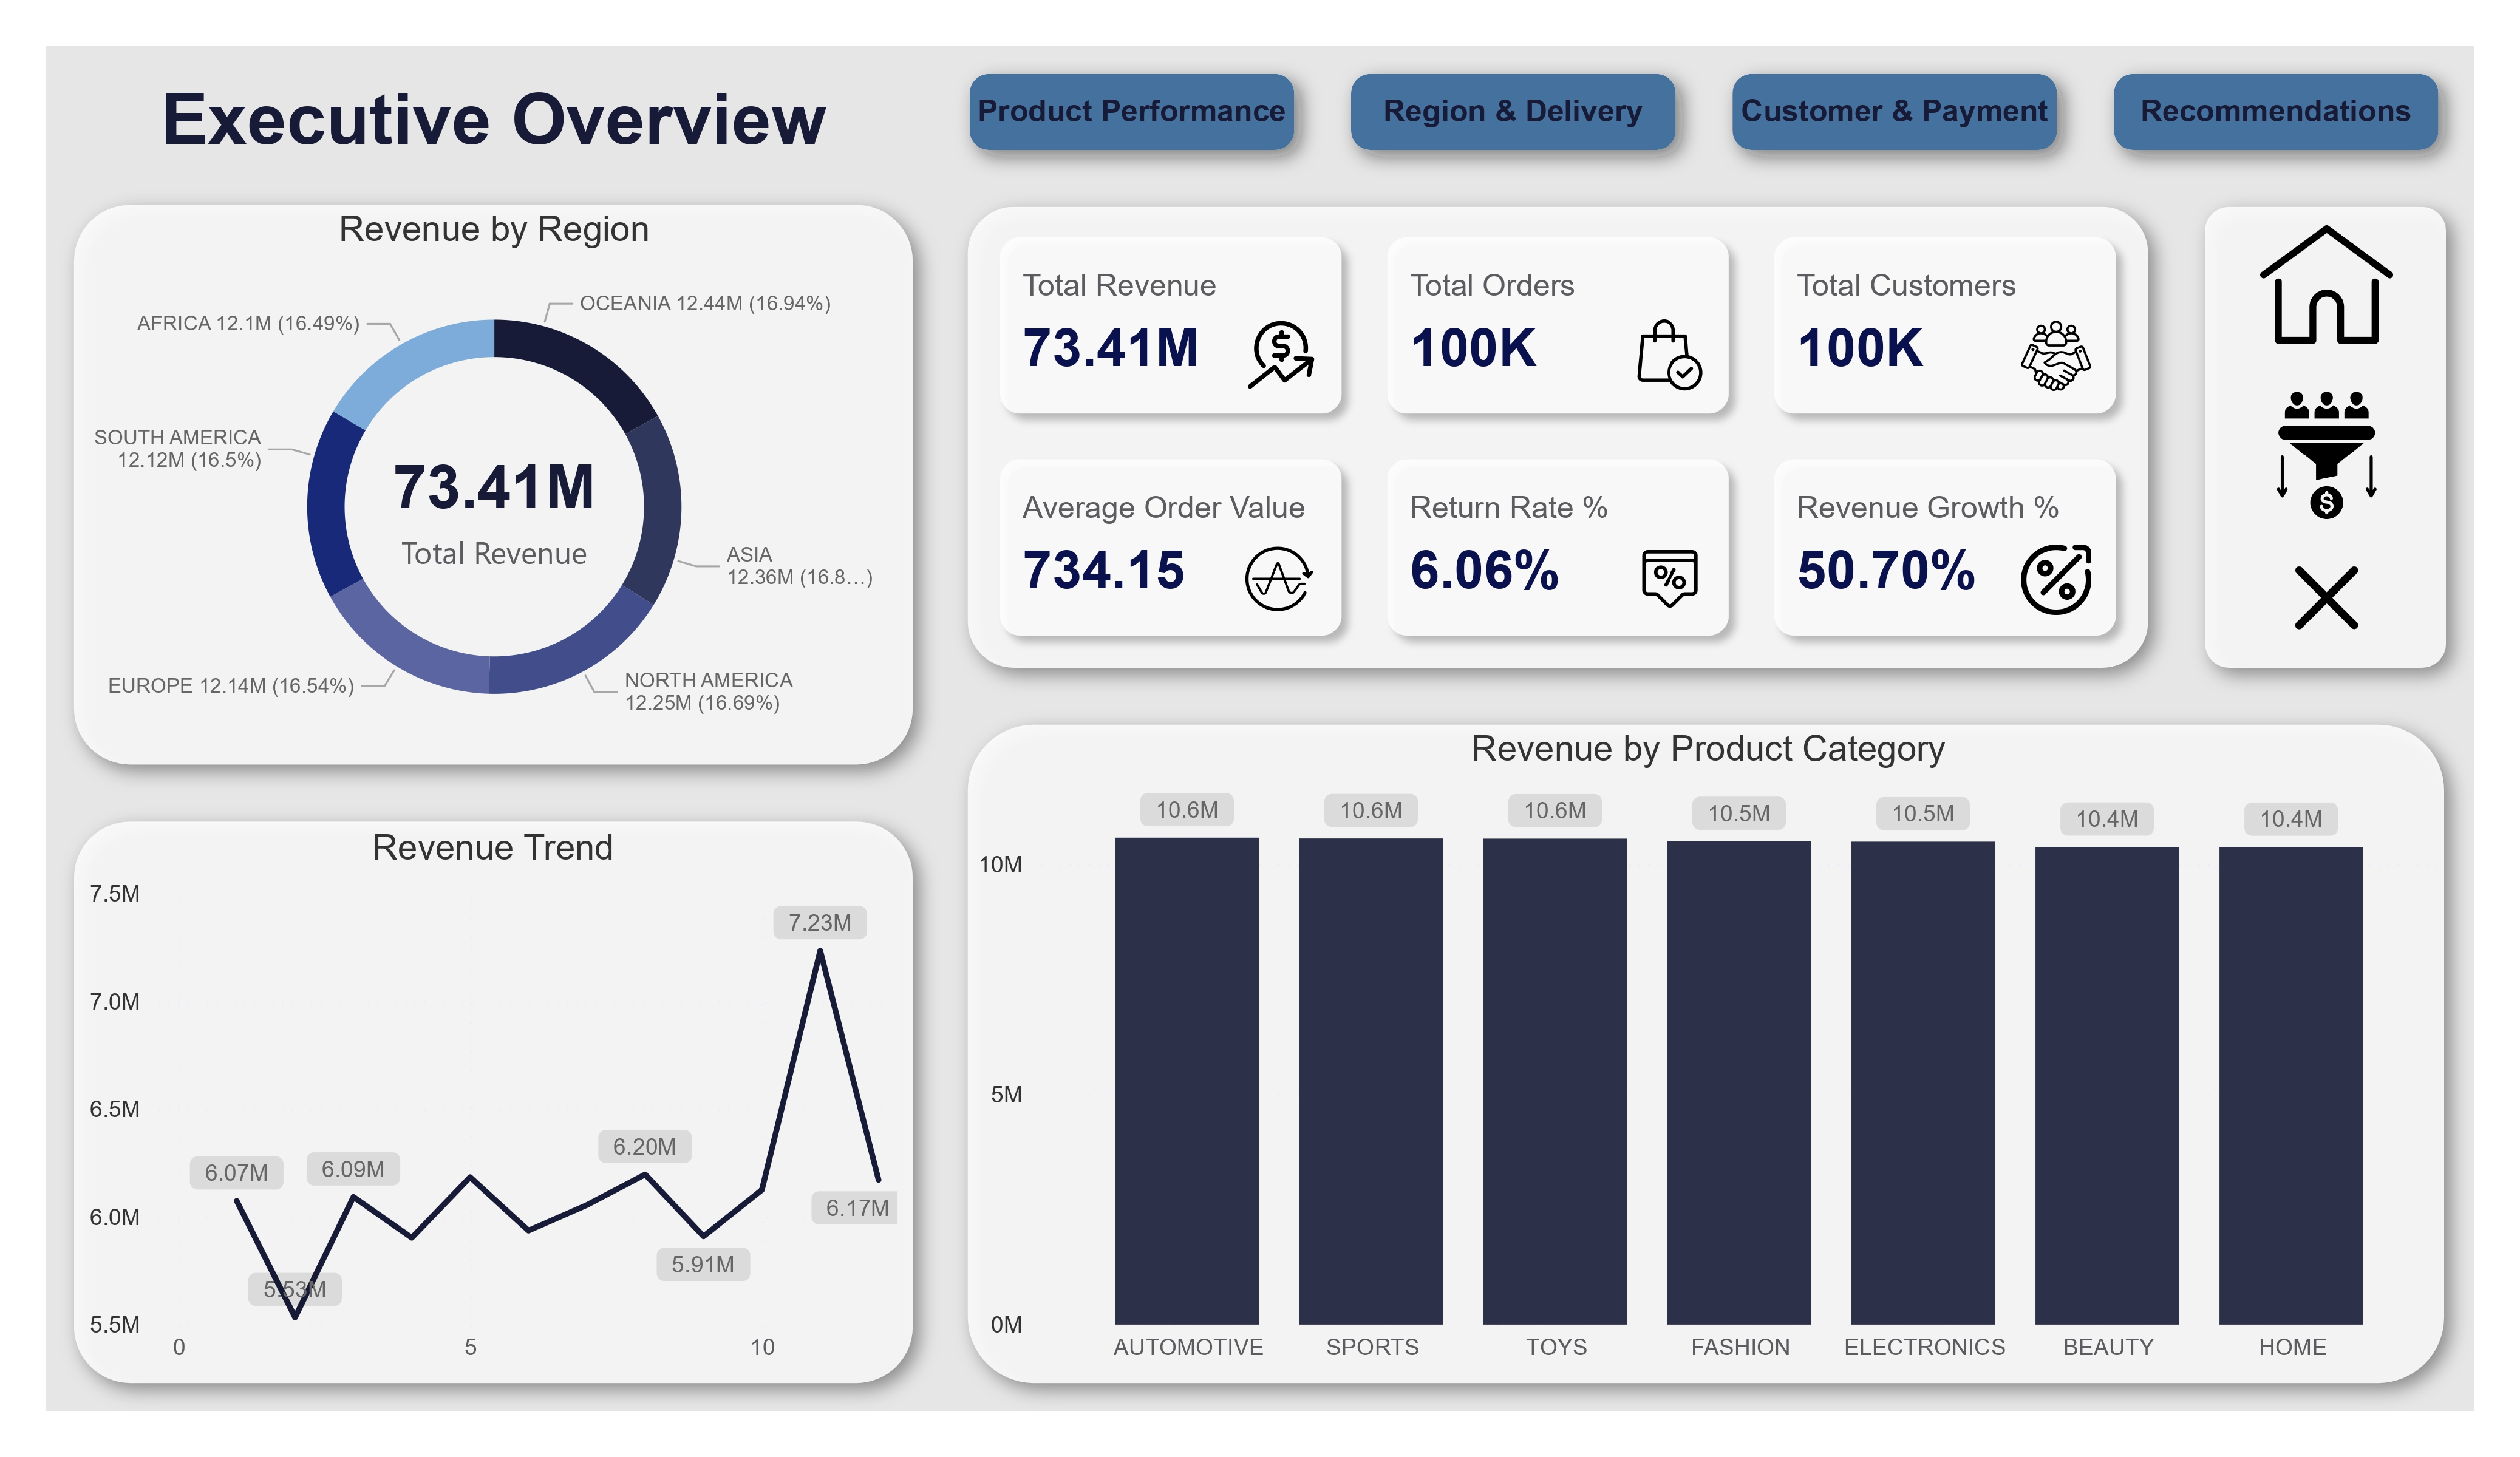

The page's visual inventory and layout, read from the dashboard file:
{"tool":"powerbi","page":{"name":"Executive Overview","canvas":[1280,720],"ordinal":1},"visuals":[{"type":"pageNavigator","box":[472.1,0,807,69.8],"z":0},{"type":"shape","box":[470.9,69.8,652.3,273.3],"z":1000},{"type":"shape","box":[470.9,343,808.1,376.7],"z":2000},{"type":"textbox","box":[0,12.9,471.8,52.9],"z":3000},{"type":"cardVisual","fields":{"Data":["fact_sales.Total Revenue","fact_sales.Total Orders","fact_sales.Total Customers","fact_sales.Average Order Value","fact_sales.Return Rate %","fact_sales.Revenue Growth %"]},"box":[485.7,84.3,622.9,244.3],"z":4000},{"type":"shape","box":[0,69.4,471.8,325],"z":5000},{"type":"shape","box":[0,394.1,471.8,325.9],"z":6000},{"type":"lineChart","title":"Revenue Trend","fields":{"Y":["fact_sales.Total Revenue"],"Category":["dim_date.month"]},"box":[17.6,411.8,436.5,290.6],"z":7000},{"type":"donutChart","title":"Revenue by Region","fields":{"Y":["fact_sales.Total Revenue"],"Category":["dim_region.region_name"]},"box":[17.9,85.7,436.9,292.9],"z":8000},{"type":"columnChart","title":"Revenue by Product Category","fields":{"Category":["dim_product.product_category"],"Y":["fact_sales.Total Revenue"]},"box":[486,360.5,781.4,341.9],"z":9000},{"type":"shape","box":[1122.9,70,157.1,272.9],"z":10000,"group":"g1"},{"type":"image","box":[626.2,139.3,48.8,48],"z":10000},{"type":"image","box":[832.1,139.3,47.6,47.6],"z":11000},{"type":"image","box":[1135.8,175.7,131.4,80],"z":11000,"group":"g1"},{"type":"image","box":[1035.7,139.3,47.6,47.6],"z":12000},{"type":"image","box":[1135.8,253.2,131.6,75.7],"z":12000,"group":"g1"},{"type":"image","box":[1135.8,85.7,131.4,80],"z":13000,"group":"g1"},{"type":"image","box":[626.2,257.1,47.6,47.6],"z":13000},{"type":"image","box":[1035.7,257.1,47.6,47.6],"z":14000},{"type":"image","box":[832.1,257.1,47.6,47.6],"z":15000},{"type":"group","id":"g1","title":"Group 2","box":[1122.9,70,157.1,272.9],"z":17000},{"type":"card","fields":{"Values":["fact_sales.Total Revenue"]},"box":[174.3,198.6,124.3,87.1],"z":18000}]}

Visuals, with their boxes on the page's 1280x720 design canvas (x1, y1, x2, y2). These are canvas units, not pixel positions in the 2520x1457 screenshot, which may show the page scaled, cropped or inside an application window:
pageNavigator: bbox(472, 0, 1279, 70)
shape: bbox(471, 70, 1123, 343)
shape: bbox(471, 343, 1279, 720)
textbox: bbox(0, 13, 472, 66)
cardVisual - fact_sales.Total Revenue x fact_sales.Total Orders: bbox(486, 84, 1109, 329)
shape: bbox(0, 69, 472, 394)
shape: bbox(0, 394, 472, 720)
"Revenue Trend" lineChart: bbox(18, 412, 454, 702)
"Revenue by Region" donutChart: bbox(18, 86, 455, 379)
"Revenue by Product Category" columnChart: bbox(486, 360, 1267, 702)
shape: bbox(1123, 70, 1280, 343)
image: bbox(626, 139, 675, 187)
image: bbox(832, 139, 880, 187)
image: bbox(1136, 176, 1267, 256)
image: bbox(1036, 139, 1083, 187)
image: bbox(1136, 253, 1267, 329)
image: bbox(1136, 86, 1267, 166)
image: bbox(626, 257, 674, 305)
image: bbox(1036, 257, 1083, 305)
image: bbox(832, 257, 880, 305)
"Group 2" group: bbox(1123, 70, 1280, 343)
card - fact_sales.Total Revenue: bbox(174, 199, 299, 286)
